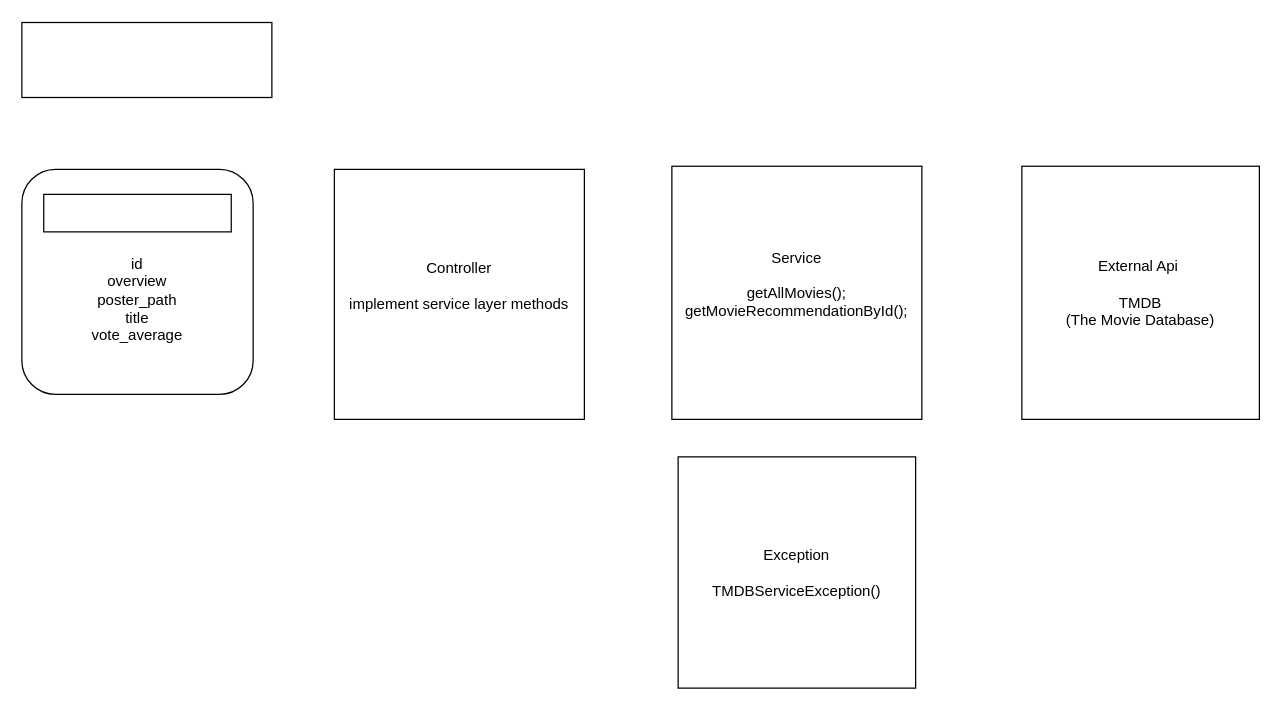
This 1281x710 diagram has some shape labels left out. Each missing label, with the centre of its shape:
"Domain (Movie)" goes at (x=136, y=212).
"MovieRecommendationService" goes at (x=146, y=59).
